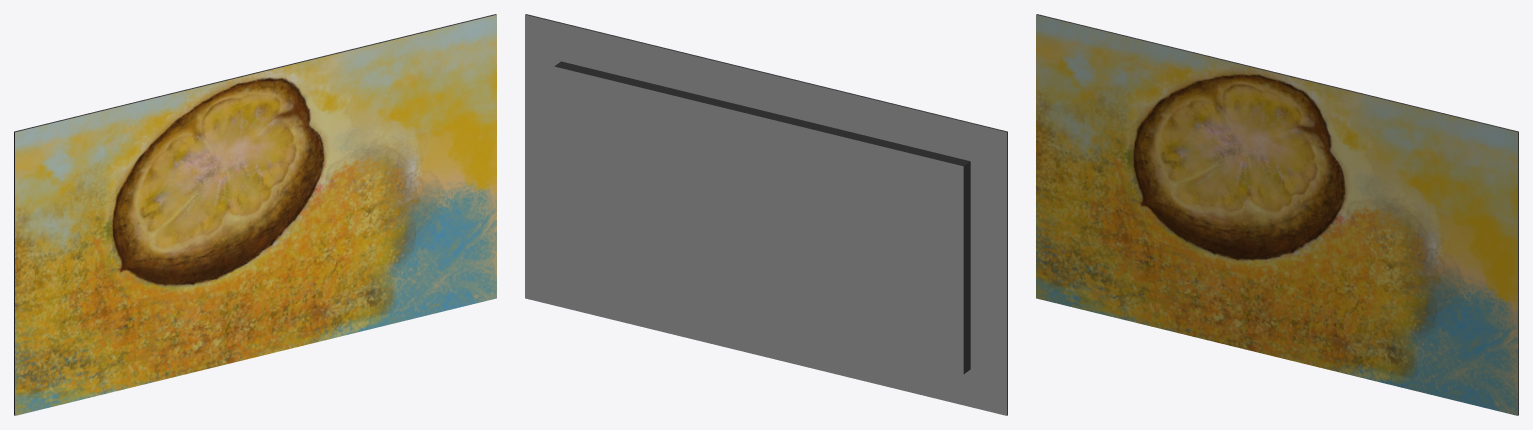
File: hz032_moyen_dibond.glb
3 views of the same model, side by side, from view 1: azimuth 30°, elevation 25°; view 2: azimuth 150°, elevation 25°; view 3: azimuth 330°, elevation 25° (orthographic).
Visible parts, largest first — view 1: hz032_moyen_dibond; view 2: hz032_moyen_dibond; view 3: hz032_moyen_dibond.
Part boxes in pixels (left/top/right/bottom): hz032_moyen_dibond: left=14, top=14, right=496, bottom=415; hz032_moyen_dibond: left=525, top=14, right=1007, bottom=415; hz032_moyen_dibond: left=1036, top=14, right=1518, bottom=415.
Size of the model in its own units: 0.8 by 0.45 by 0.023.
4 materials, 1 textured.
